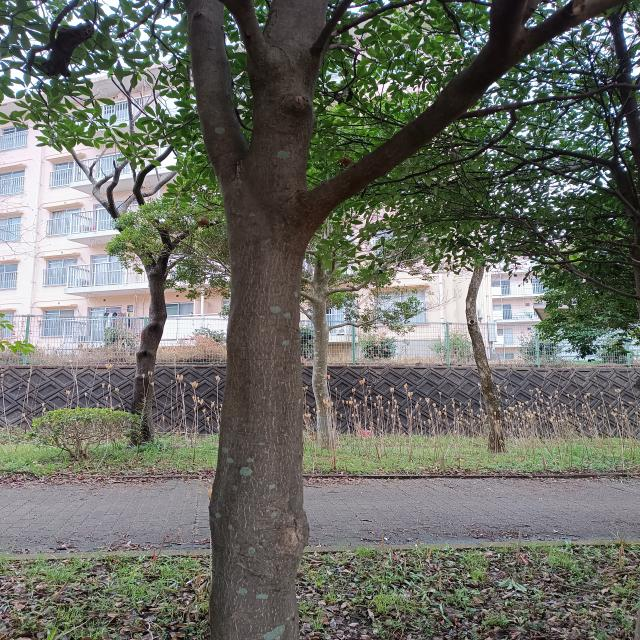Branch: (300, 0, 623, 236), (240, 0, 326, 203), (185, 0, 244, 172), (607, 12, 639, 166), (491, 1, 540, 37), (610, 158, 638, 217)
Twig: (398, 109, 519, 180), (460, 83, 640, 119), (498, 149, 620, 196), (323, 0, 419, 48), (222, 0, 260, 70), (492, 145, 612, 167), (472, 154, 557, 180)
